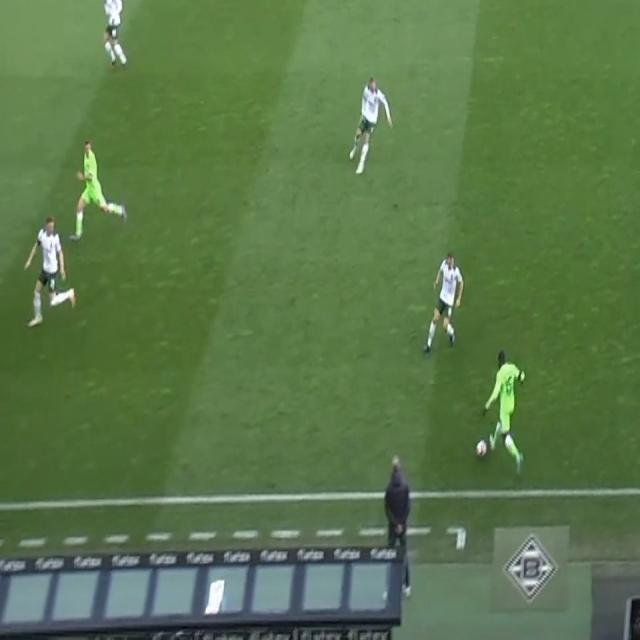ball: (475, 438, 488, 458)
